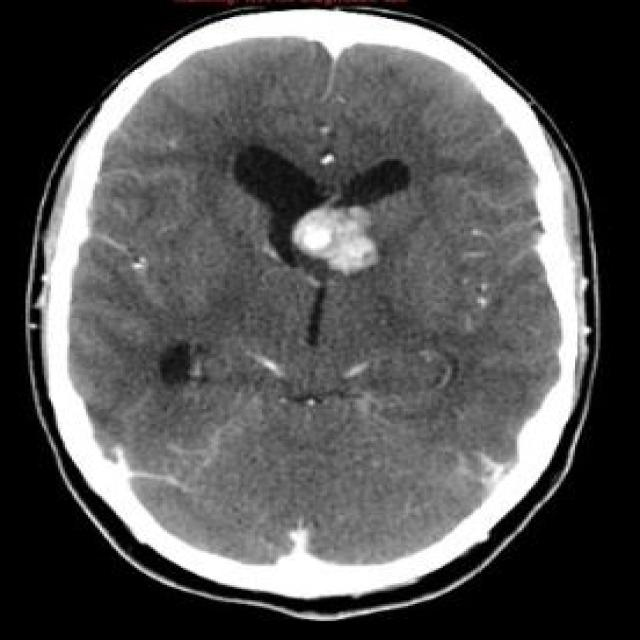tumor: (281, 190, 432, 262)
